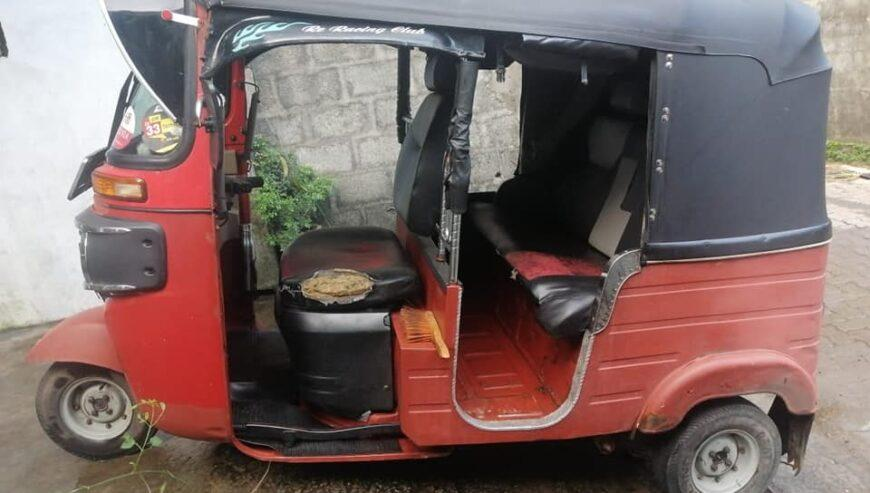threewheel: (25, 1, 834, 493)
